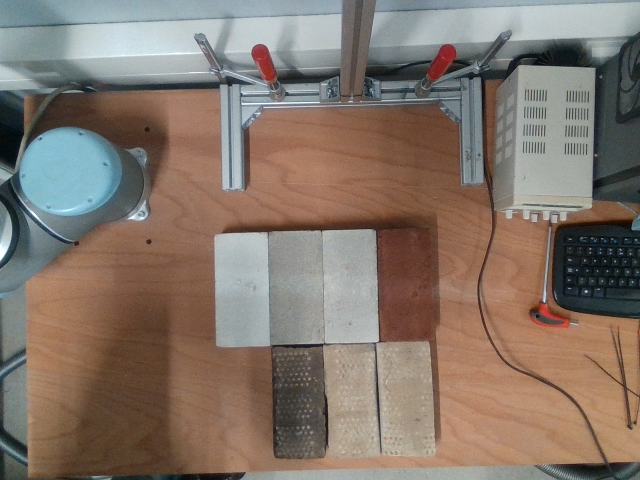brick: (322, 231, 377, 342), (269, 231, 323, 344), (215, 233, 268, 346), (380, 342, 432, 452), (325, 348, 378, 452), (380, 230, 431, 338), (277, 348, 321, 456)
